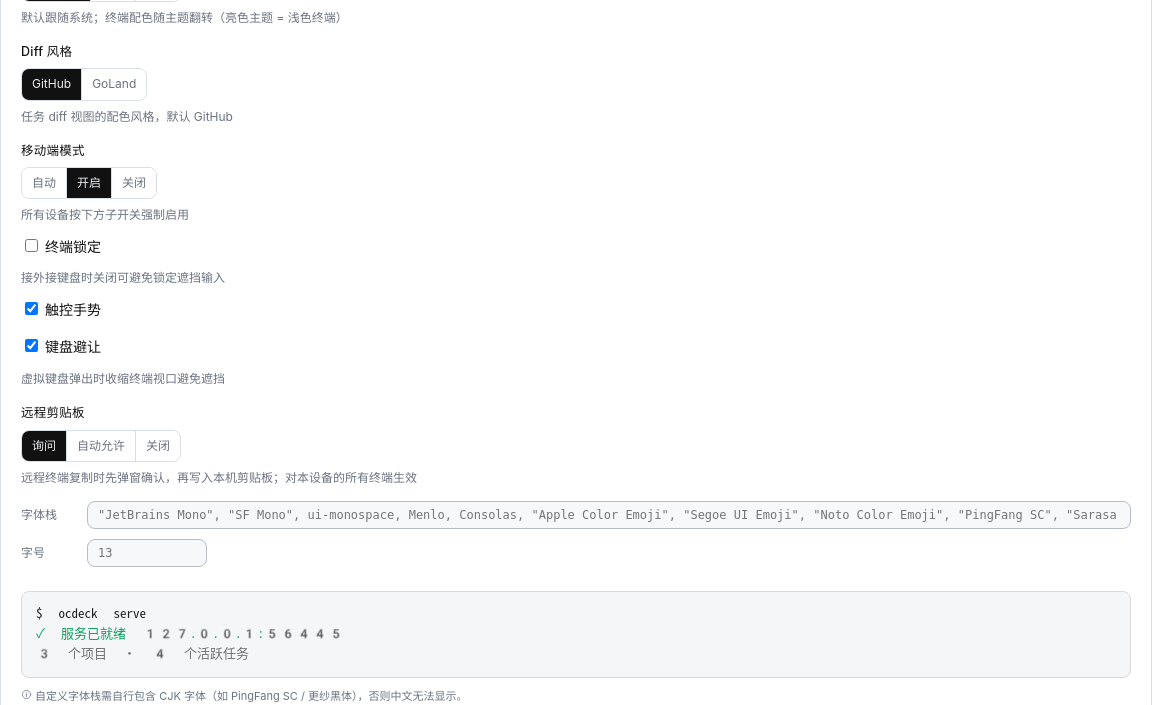
Test case: AppearancePanel 移动端模式控件（task 6.1） › caps 写失败 → 显示错误行、checkbox 保持旧值、存储不变、不派发事件
(page scrolled)
Click the 3rd checkbox at (32, 346), box top-left (25, 339), bottom-right (38, 352)
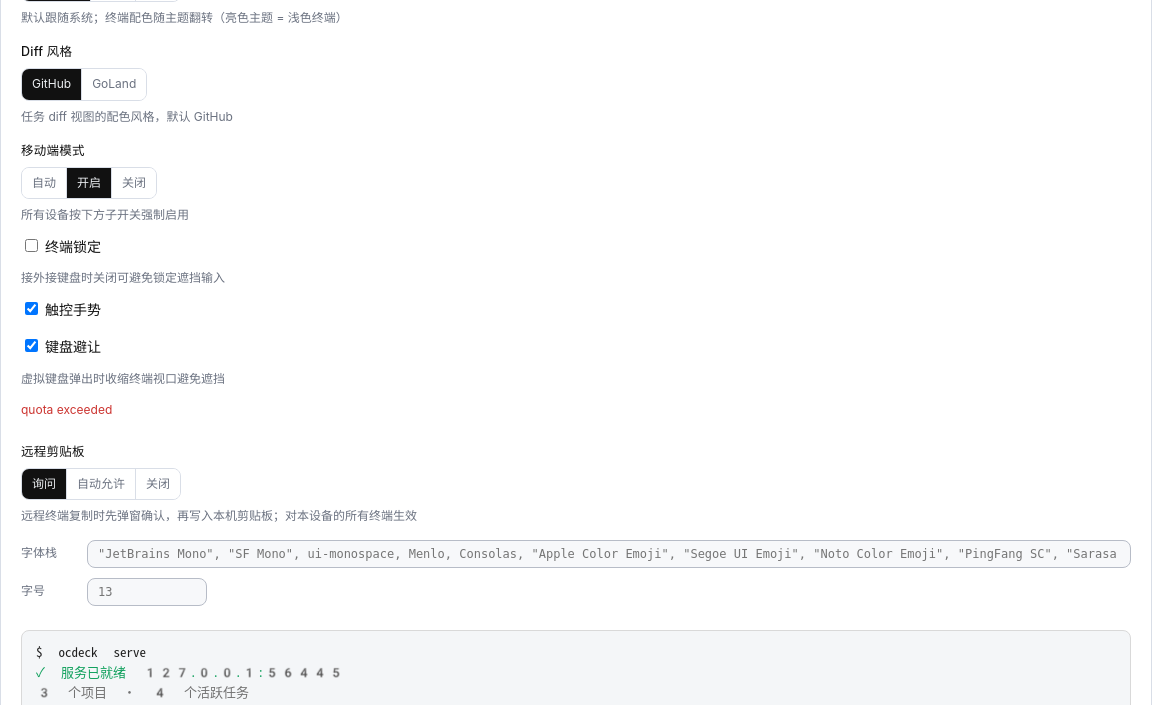
expect the text with class "error-line" reads "quota exceeded": met, box top-left (21, 402), bottom-right (112, 417)
